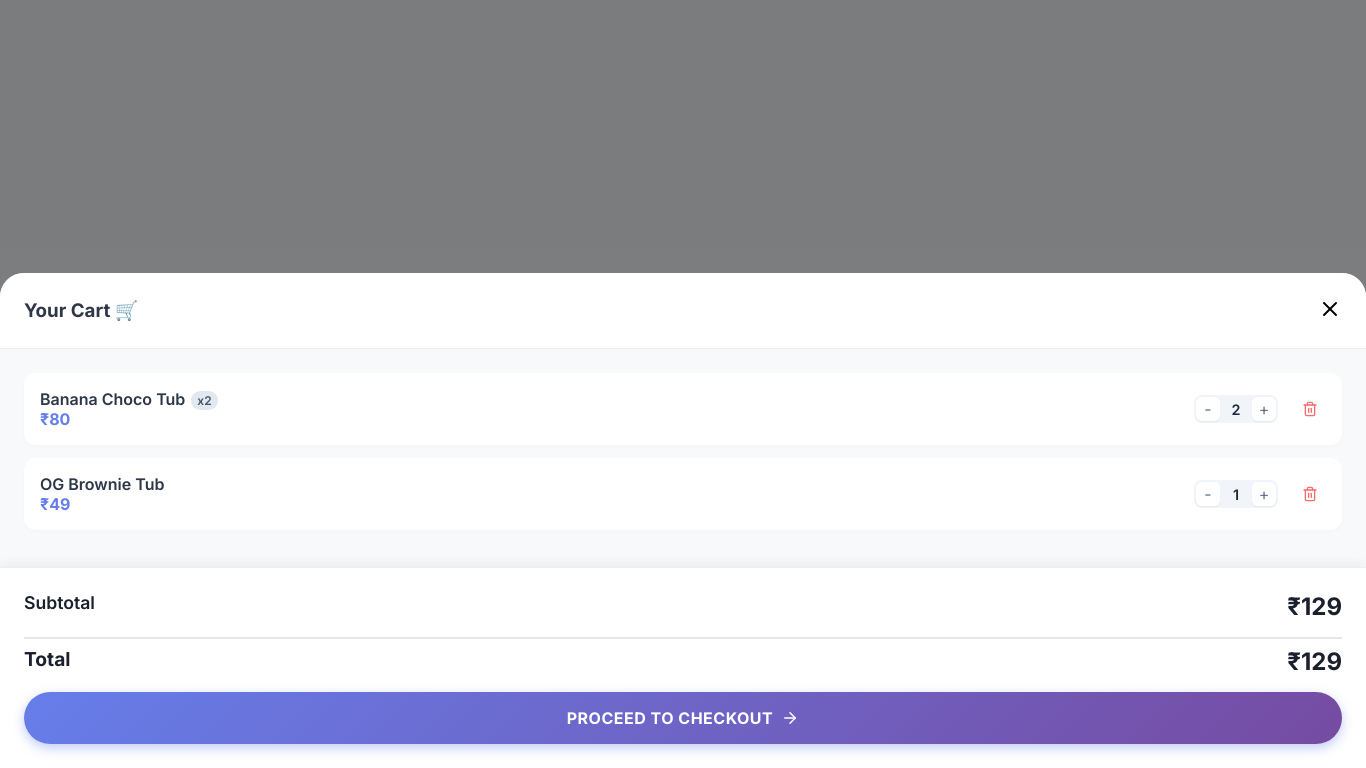
CartModal › Customer Info Step › should allow reward selection
Click the button "Proceed to Checkout" at point(683, 718), box [24,692,1342,744]
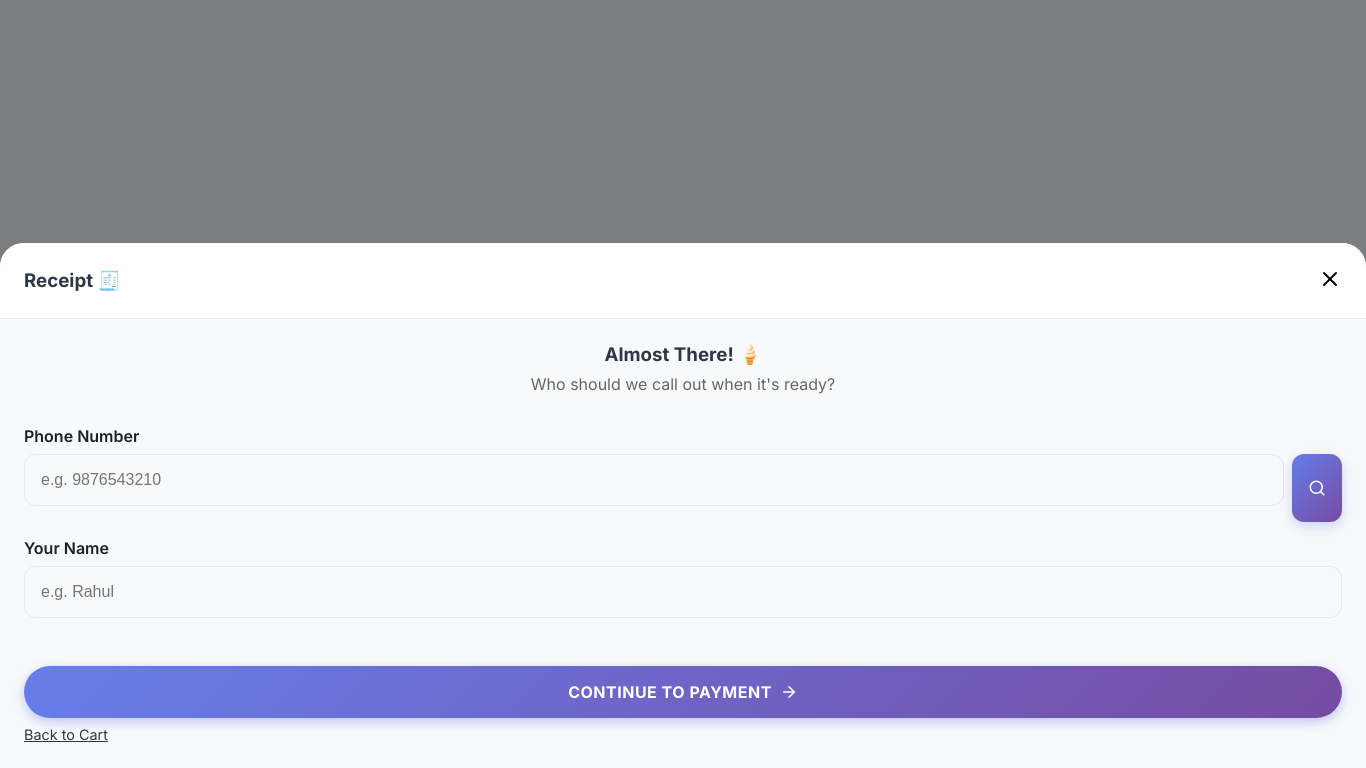
Type "9876543210" into the field with placeholder "e.g. 9876543210" at point(654, 480), box [24,454,1284,506]
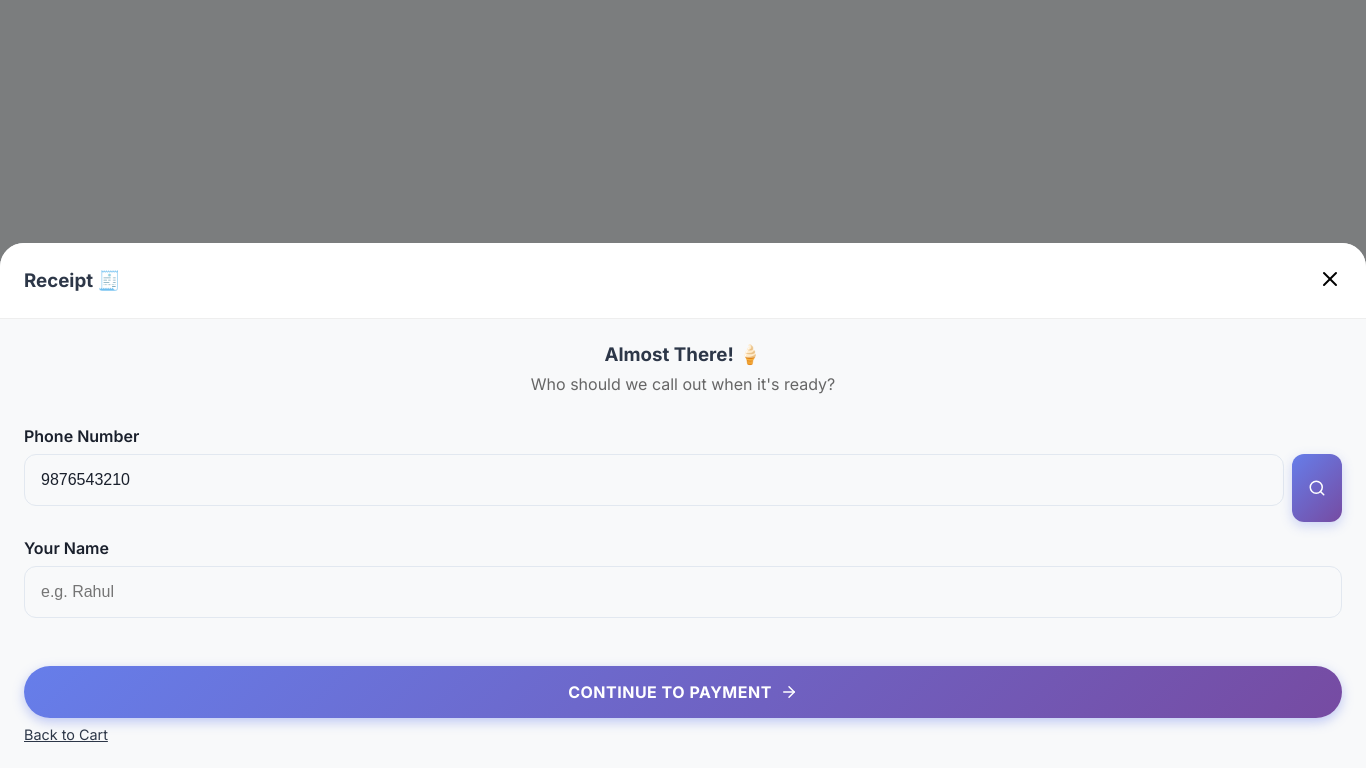
Leave the field with placeholder "e.g. 9876543210", box [24,454,1284,506]
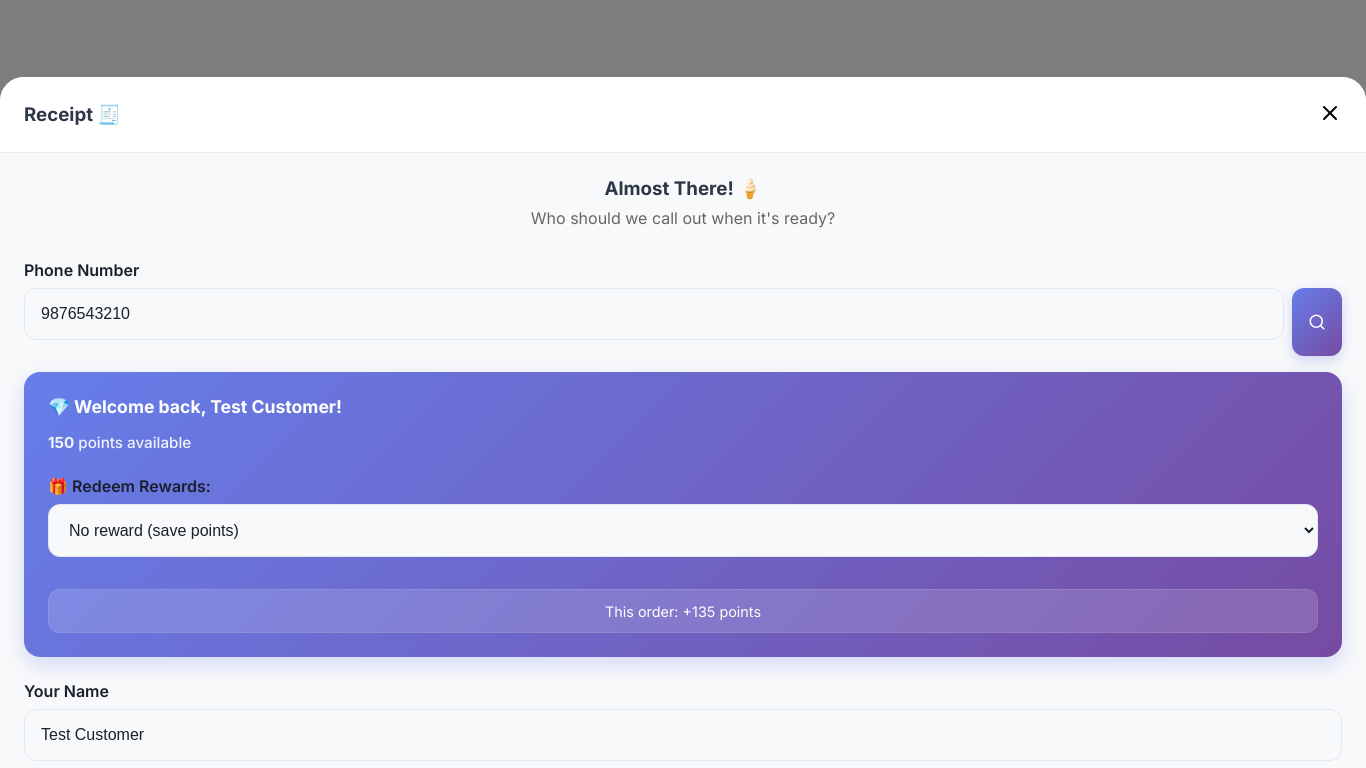
Now the text "🎁 Redeem Rewards:" is shown, box [48,476,211,496]
